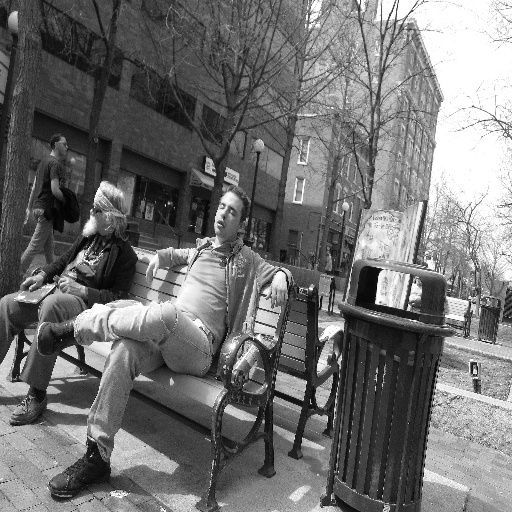hand: (264, 269, 285, 308), (57, 275, 85, 298), (144, 253, 159, 284), (21, 276, 44, 292), (24, 207, 31, 224), (324, 265, 328, 270)
